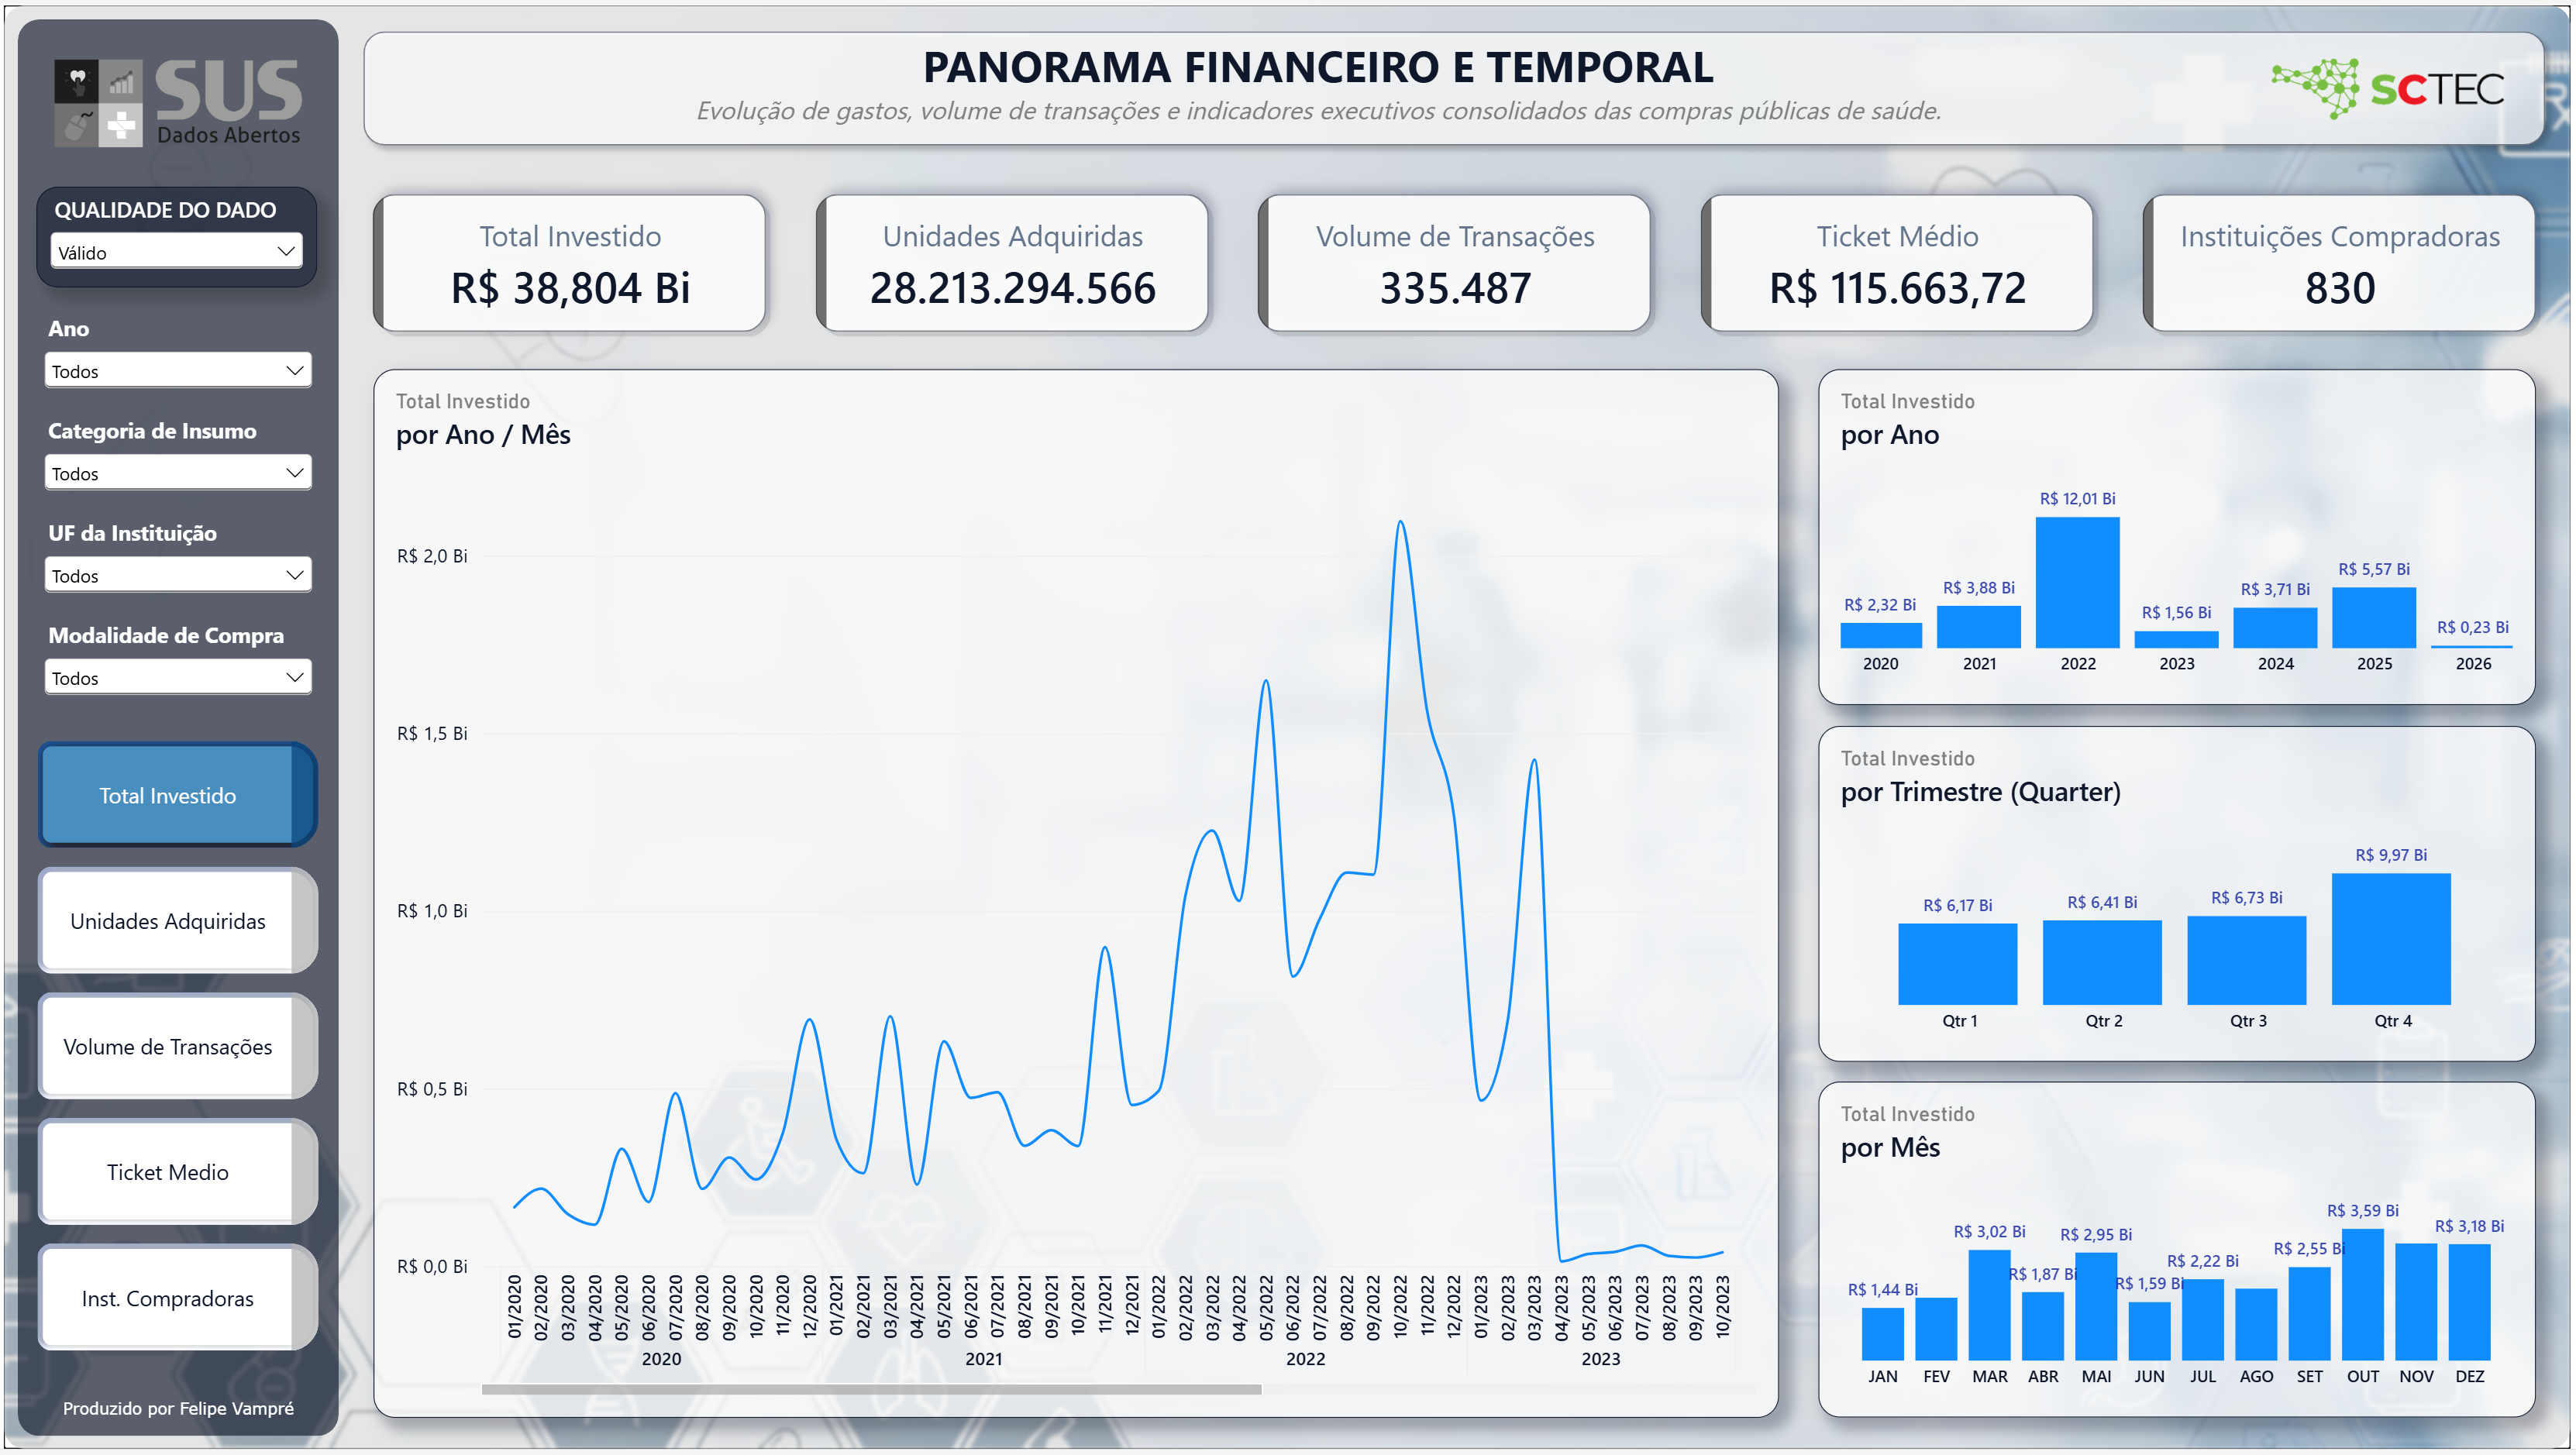

What the dashboard file says about the page in this screenshot:
{"tool":"powerbi","page":{"name":"1. Panorama Financeiro","canvas":[1920,1080],"ordinal":1},"visuals":[{"type":"image","box":[0,0,1920,1080],"z":0},{"type":"shape","box":[260,10,1650,103.3],"z":1000},{"type":"textbox","box":[276.7,22.2,1413.3,72.2],"z":2000},{"type":"shape","box":[10,10,240,1060],"z":3000},{"type":"slicer","title":"Ano","fields":{"Values":["dim_calendario.nr_ano","dim_calendario.nm_mes"]},"box":[25,230,210,80],"z":4000},{"type":"slicer","fields":{"Values":["dim_produto.categoria_insumo"]},"box":[25.6,306.7,210,80],"z":5000},{"type":"slicer","fields":{"Values":["dim_instituicao.uf"]},"box":[25,383.3,210,80],"z":6000},{"type":"slicer","fields":{"Values":["fato_compras.modalidade_compra"]},"box":[25,460,210,80],"z":7000},{"type":"cardVisual","fields":{"Data":["_Medidas.Total_Gasto","_Medidas.Total_Qtd_Itens","_Medidas.Total_Transacoes","_Medidas.Ticket_Medio","_Medidas.Total_Instituicoes"]},"box":[260,125.6,1650,135.6],"z":8000},{"type":"lineChart","fields":{"Category":["dim_calendario.dt_completa.Variation.Hierarquia de datas.Ano","dim_calendario.ds_periodo"],"Y":["_Medidas.Total_Gasto"]},"box":[276.7,272.2,1051.1,784.4],"z":9000},{"type":"image","box":[1690,22.2,190,80],"z":10000},{"type":"image","box":[25.6,27.8,210,91.1],"z":11000},{"type":"textbox","box":[26,1039,209,31],"z":12000},{"type":"columnChart","fields":{"Category":["dim_calendario.nr_ano"],"Y":["_Medidas.Total_Gasto"]},"box":[1357.8,272.2,536.7,251.1],"z":13000},{"type":"columnChart","fields":{"Category":["dim_calendario.dt_completa.Variation.Hierarquia de datas.Trimestre"],"Y":["_Medidas.Total_Gasto"]},"box":[1357.8,538.9,536.7,251.1],"z":14000},{"type":"columnChart","fields":{"Category":["dim_calendario.nm_mes"],"Y":["_Medidas.Total_Gasto"]},"box":[1357.8,805.6,536.7,251.1],"z":15000},{"type":"advancedSlicerVisual","fields":{"Values":["Parâmetro Financeiro.Parâmetros FInanceiros"]},"box":[25.6,550,210,460],"z":16000},{"type":"slicer","title":"Ano","fields":{"Values":["fato_compras.flag_qualidade_dado"]},"box":[23.9,135.2,209.9,75],"z":17000}]}

Visuals, with their boxes in screenshot pixels (x1, y1, x2, y2), scaled from the page's 1920x1080 canvas onto the 2576x1455 screenshot:
image: region(0, 0, 2575, 1454)
shape: region(349, 13, 2563, 153)
textbox: region(371, 30, 2268, 127)
shape: region(13, 13, 336, 1442)
"Ano" slicer: region(33, 310, 315, 418)
slicer - dim_produto.categoria_insumo: region(34, 413, 316, 521)
slicer - dim_instituicao.uf: region(33, 517, 315, 624)
slicer - fato_compras.modalidade_compra: region(33, 620, 315, 727)
cardVisual - _Medidas.Total_Gasto x _Medidas.Total_Qtd_Itens: region(349, 169, 2563, 352)
lineChart - dim_calendario.dt_completa.Variation.Hierarquia de datas.Ano x dim_calendario.ds_periodo: region(371, 366, 1782, 1423)
image: region(2268, 30, 2523, 138)
image: region(34, 37, 316, 160)
textbox: region(35, 1400, 315, 1442)
columnChart - dim_calendario.nr_ano x _Medidas.Total_Gasto: region(1822, 366, 2542, 705)
columnChart - dim_calendario.dt_completa.Variation.Hierarquia de datas.Trimestre x _Medidas.Total_Gasto: region(1822, 726, 2542, 1065)
columnChart - dim_calendario.nm_mes x _Medidas.Total_Gasto: region(1822, 1085, 2542, 1423)
advancedSlicerVisual - Parâmetro Financeiro.Parâmetros FInanceiros: region(34, 741, 316, 1360)
"Ano" slicer: region(32, 182, 314, 284)
